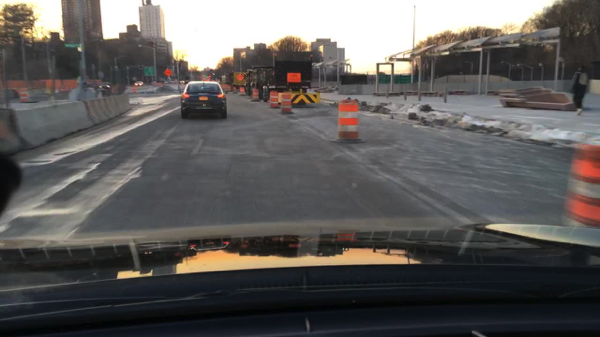car: (180, 80, 228, 120), (99, 82, 111, 90), (134, 80, 144, 87), (171, 78, 178, 83), (179, 80, 185, 84)
person: (567, 66, 588, 117)
traffic light: (207, 74, 211, 79)
traffic sign: (143, 66, 154, 77), (163, 67, 172, 77), (64, 43, 80, 48), (236, 74, 244, 81)
